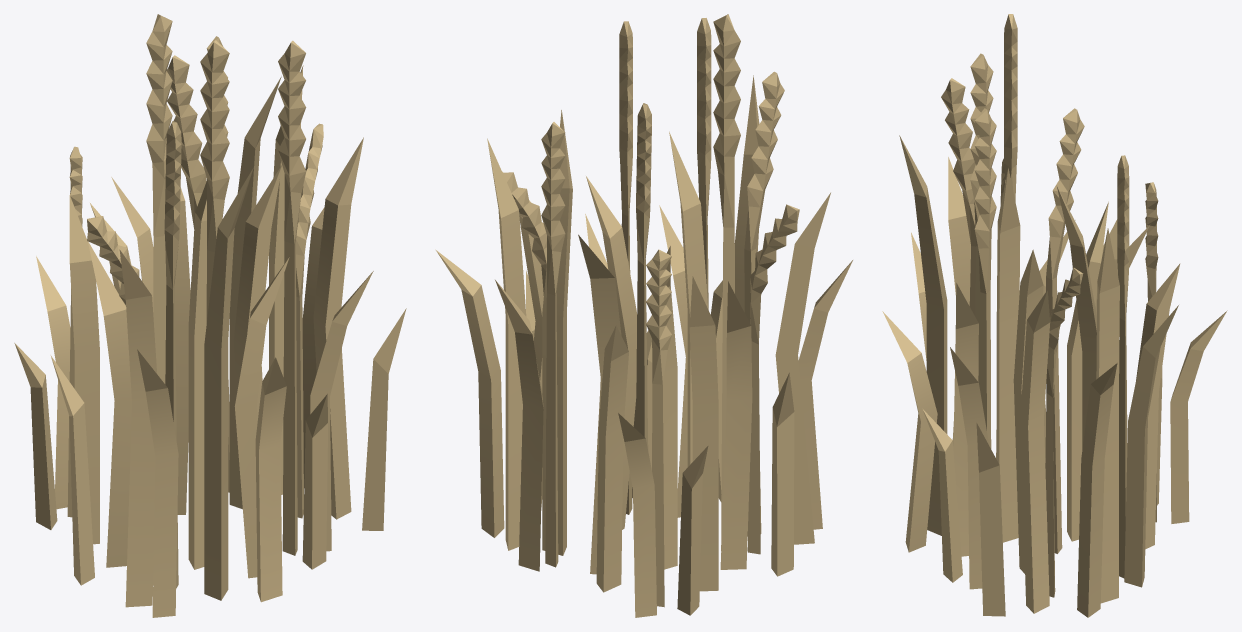
The model's file is SM_Prop_Plant_Wheat_03.fbx.
3 views of the same model, side by side, from view 1: azimuth 30°, elevation 25°; view 2: azimuth 150°, elevation 25°; view 3: azimuth 270°, elevation 25° (orthographic). The views are drawn at different scales.
Parts seen in each view (by area): view 1: SM_Prop_Plant_Wheat_03; view 2: SM_Prop_Plant_Wheat_03; view 3: SM_Prop_Plant_Wheat_03.
Boxes of the visible parts, x1=… form: SM_Prop_Plant_Wheat_03: x1=14, y1=14, x2=406, y2=617; SM_Prop_Plant_Wheat_03: x1=435, y1=14, x2=852, y2=617; SM_Prop_Plant_Wheat_03: x1=882, y1=14, x2=1227, y2=617.
Size of the model in its own units: 0.746 by 1.19 by 0.7334.
Materials: 1 (1 with a texture image).
